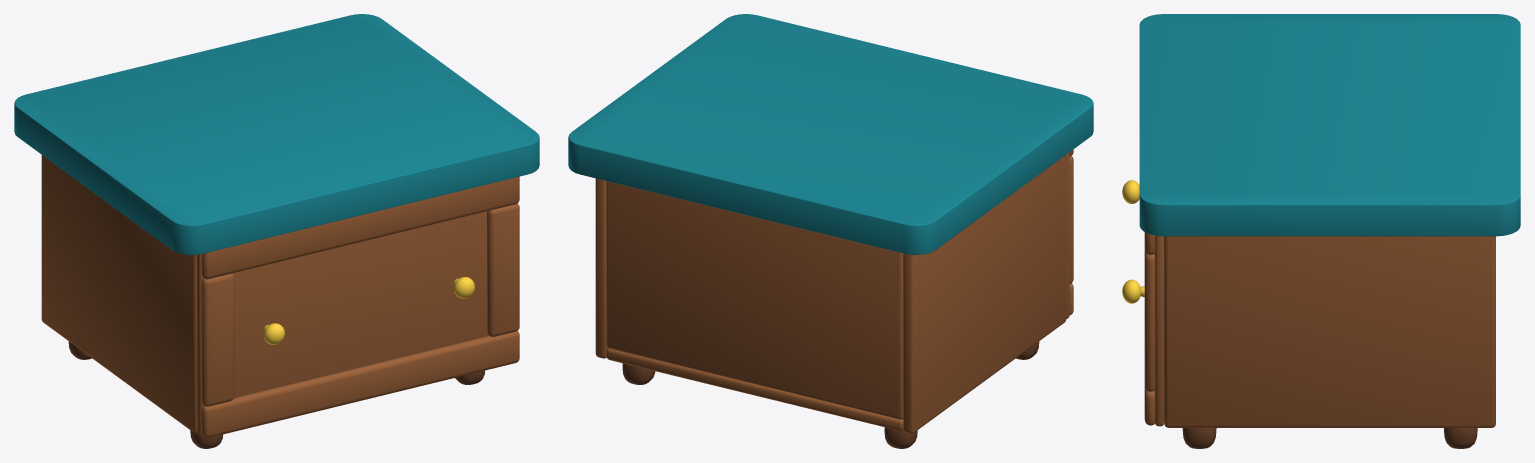
Rendered from mesa_centro_gaveta_turquesa.glb.
3 views of the same model, side by side, from view 1: azimuth 30°, elevation 25°; view 2: azimuth 150°, elevation 25°; view 3: azimuth 270°, elevation 25° (orthographic). The views are drawn at different scales.
Parts seen in each view (by area): view 1: mesa_centro_gaveta_turquesa, gaveta_1; view 2: mesa_centro_gaveta_turquesa, gaveta_1; view 3: mesa_centro_gaveta_turquesa, gaveta_1.
Boxes of the visible parts, <box> form: mesa_centro_gaveta_turquesa: <box>14,14,539,448</box>; gaveta_1: <box>197,176,519,437</box>; mesa_centro_gaveta_turquesa: <box>568,14,1093,448</box>; gaveta_1: <box>1066,149,1073,318</box>; mesa_centro_gaveta_turquesa: <box>1139,14,1520,448</box>; gaveta_1: <box>1122,180,1164,426</box>.
Size of the model in its own units: 0.64 by 0.42 by 0.5646.
Materials: 1 (1 with a texture image).
